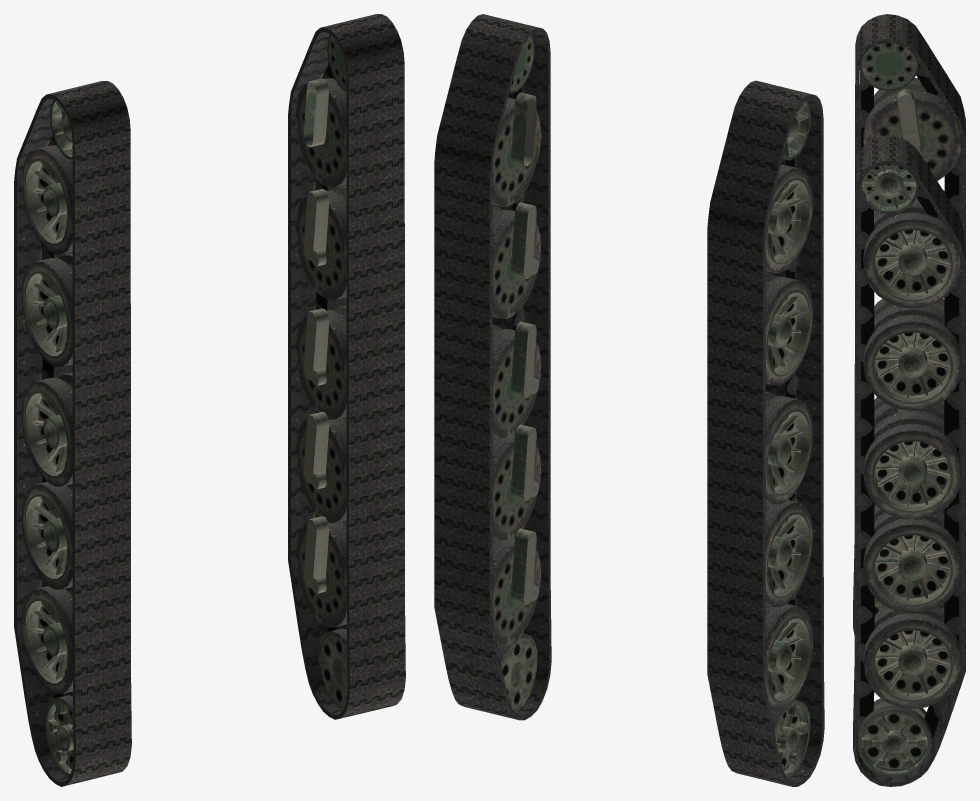
File: Chassis.glb
The picture shows the model from 3 angles, left to right: view 1: azimuth 30°, elevation 25°; view 2: azimuth 150°, elevation 25°; view 3: azimuth 270°, elevation 25°; orthographic projection. The views are drawn at different scales.
Parts seen in each view (by area): view 1: set_1_group_0, set_0_group_0, set_2_group_0, set_3_group_0; view 2: set_1_group_0, set_0_group_0, set_2_group_0, set_3_group_0; view 3: set_2_group_0, set_0_group_0, set_3_group_0, set_1_group_0.
Boxes of the visible parts, box(x1,y1,x2,y2) form: set_1_group_0: box(14, 81, 131, 786); set_0_group_0: box(288, 14, 405, 719); set_2_group_0: box(295, 34, 347, 710); set_3_group_0: box(22, 100, 73, 777); set_1_group_0: box(707, 80, 824, 786); set_0_group_0: box(434, 14, 551, 720); set_2_group_0: box(492, 35, 540, 711); set_3_group_0: box(765, 100, 813, 778); set_2_group_0: box(857, 164, 960, 777); set_0_group_0: box(853, 135, 965, 786); set_3_group_0: box(859, 43, 960, 615); set_1_group_0: box(853, 14, 965, 634).
Bounding box in the file's own units: 2.95 × 5.88 × 0.9604.
Materials: 4 (4 with a texture image).
